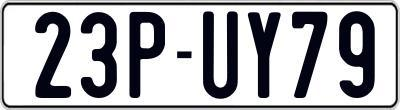2: (32, 10, 68, 100)
3: (78, 9, 115, 98)
7: (292, 11, 331, 101)
9: (339, 10, 379, 102)
P: (128, 12, 164, 99)
U: (203, 8, 243, 97)
Y: (247, 12, 284, 103)
